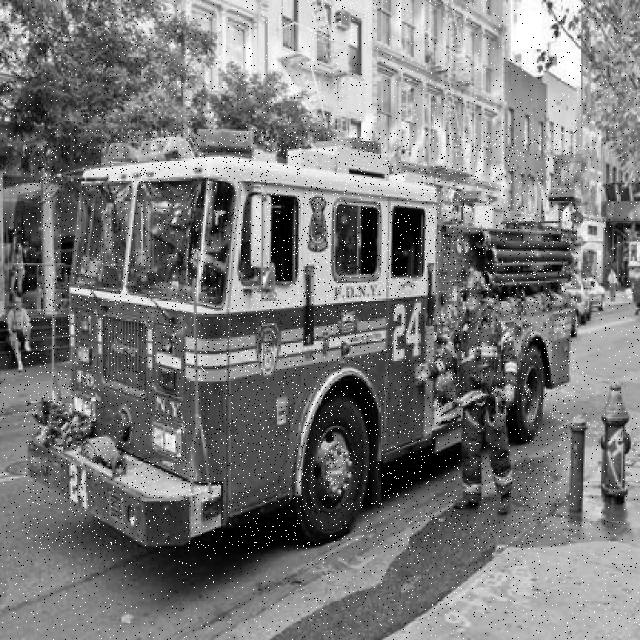Fire Truck: (24, 130, 577, 549)
